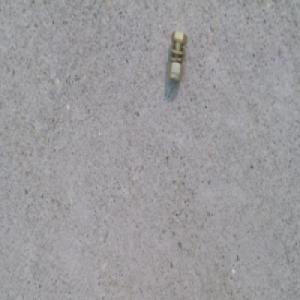BoltNutSet: (164, 31, 187, 81)
